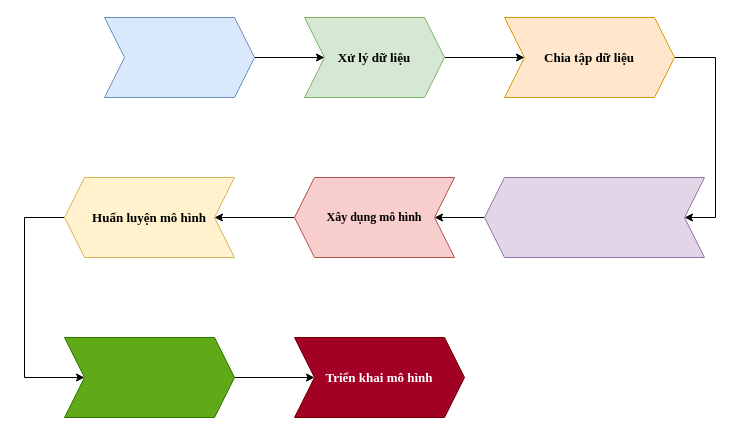
The diagram is 741 pixels wide and 435 high, and some of its shapes have lost their labels. The box of each missing label's shape, as (x1, y1, x2, y2) in pixels:
Lựa chọn mô hình học máy: (484, 176, 704, 258)
Thu thập dữ liệu: (104, 16, 254, 98)
Đánh giá mô hình: (64, 336, 234, 418)
